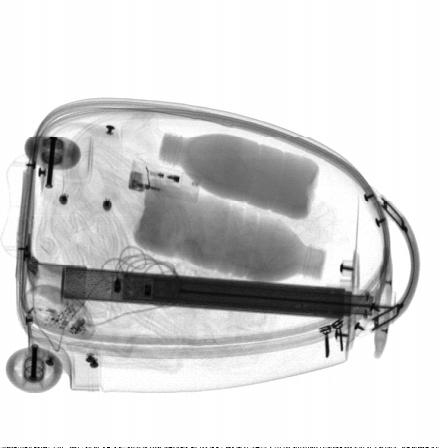Lighter: (128, 160, 201, 203)
